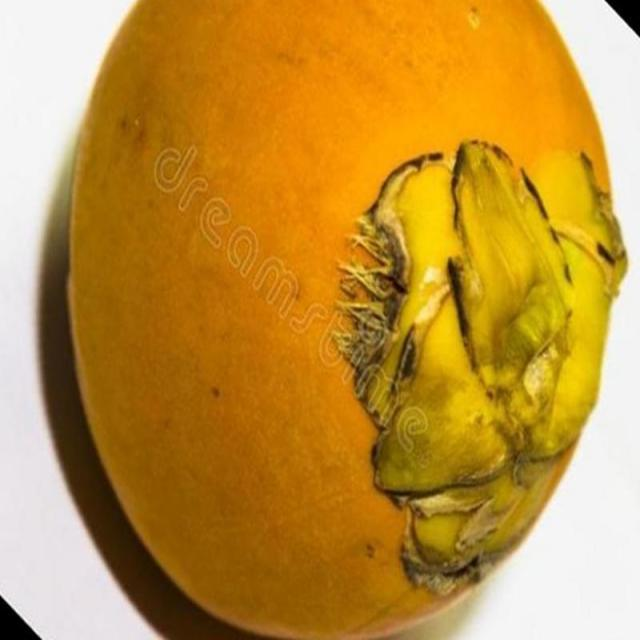good: (54, 0, 630, 639)
